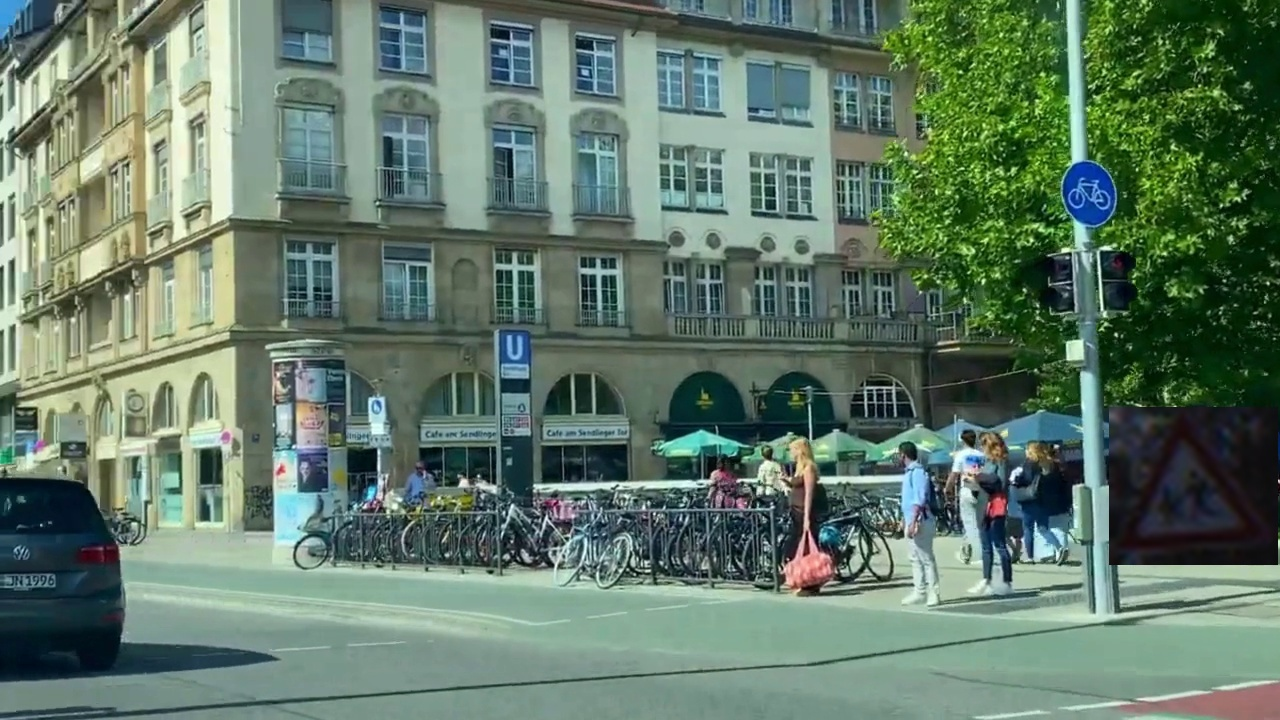Children: (1109, 407, 1278, 565)
